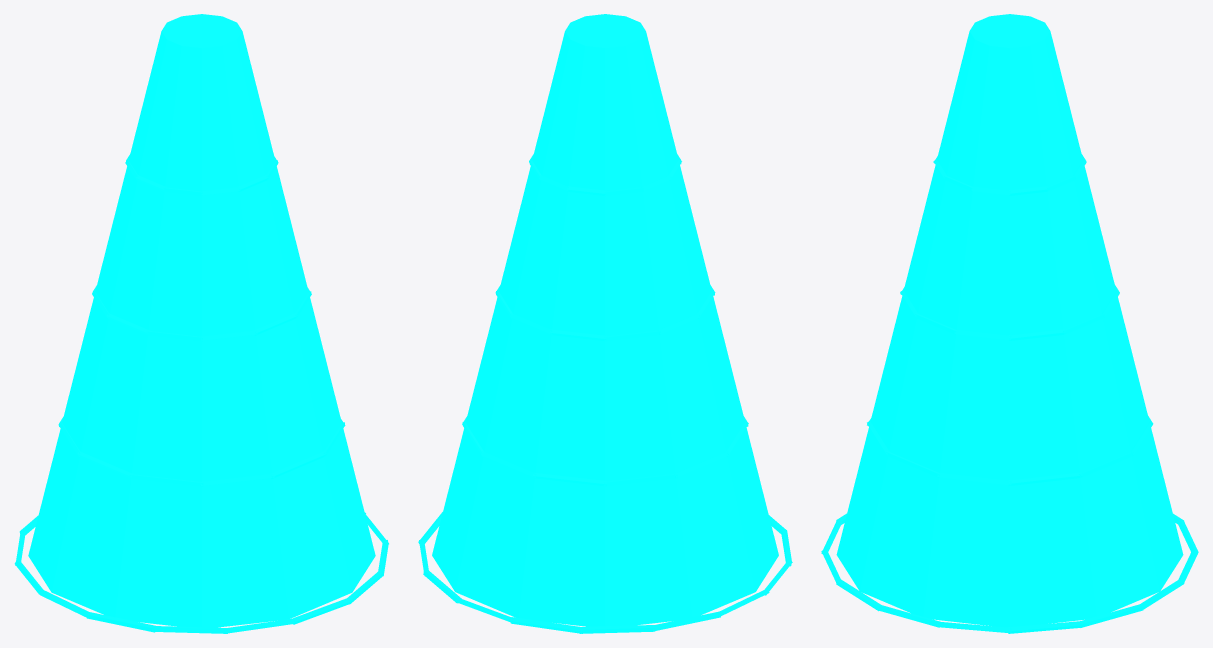
Rendered from FX_TractorBeam.fbx.
3 renders of one model, left to right at view 1: azimuth 30°, elevation 25°; view 2: azimuth 150°, elevation 25°; view 3: azimuth 270°, elevation 25°, orthographic.
Parts seen in each view (by area): view 1: Beam_Cone, Beam_GroundRing, Beam_Ring2, Beam_Ring1, Beam_Ring0; view 2: Beam_Cone, Beam_GroundRing, Beam_Ring2, Beam_Ring1, Beam_Ring0; view 3: Beam_Cone, Beam_GroundRing, Beam_Ring2, Beam_Ring1, Beam_Ring0.
Boxes of the visible parts, <box> form: Beam_Cone: <box>28,14,375,627</box>; Beam_GroundRing: <box>14,512,388,633</box>; Beam_Ring2: <box>58,417,345,486</box>; Beam_Ring1: <box>92,285,311,341</box>; Beam_Ring0: <box>125,155,278,196</box>; Beam_Cone: <box>432,14,778,626</box>; Beam_GroundRing: <box>418,512,792,633</box>; Beam_Ring2: <box>462,416,748,486</box>; Beam_Ring1: <box>495,285,715,341</box>; Beam_Ring0: <box>529,154,681,196</box>; Beam_Cone: <box>836,14,1183,627</box>; Beam_GroundRing: <box>821,513,1198,633</box>; Beam_Ring2: <box>867,416,1153,486</box>; Beam_Ring1: <box>900,285,1119,340</box>; Beam_Ring0: <box>933,154,1086,195</box>.
Bounding box in the file's own units: 0.6528 × 1 × 0.6528.
